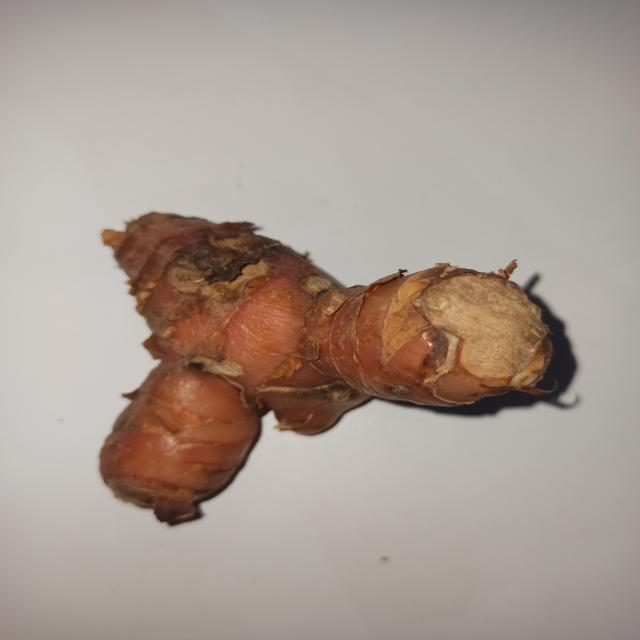ginger: (91, 209, 574, 529)
